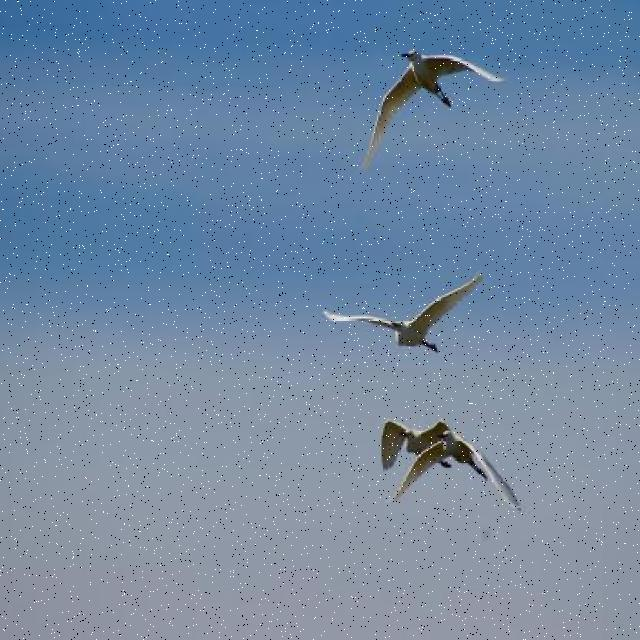bird: (358, 50, 509, 178), (323, 272, 484, 352), (384, 430, 522, 512), (380, 420, 454, 469)
